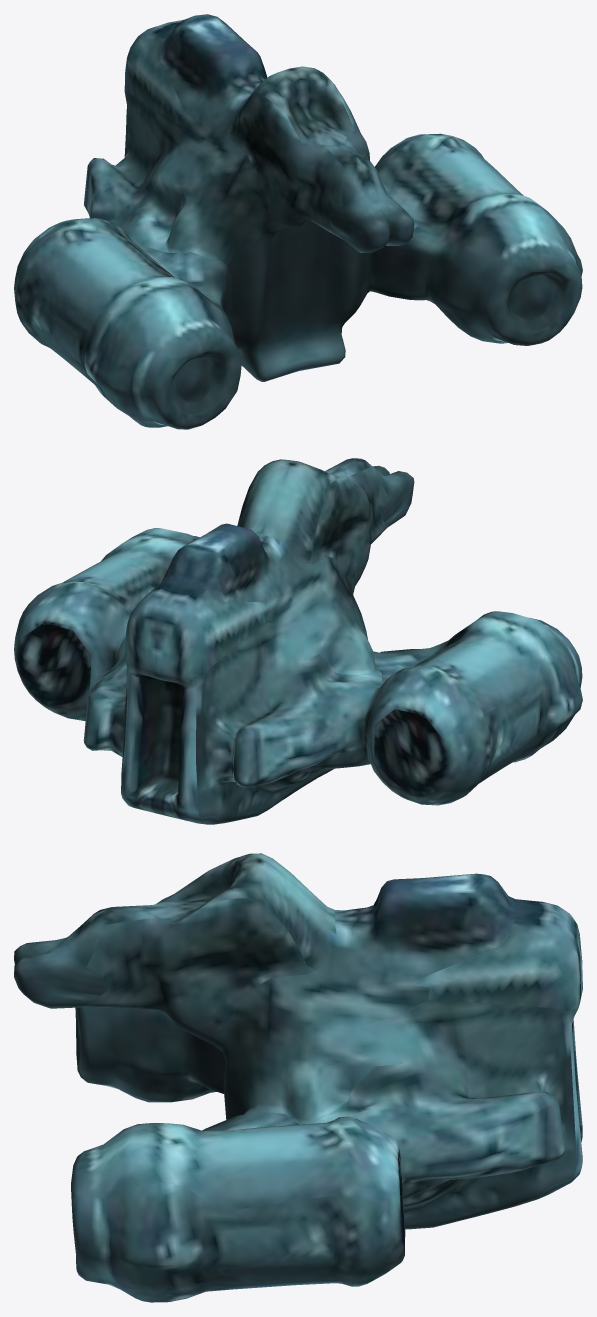
The model's file is placeholder_arctides.glb.
3 renders of one model, top to bottom at view 1: azimuth 30°, elevation 25°; view 2: azimuth 150°, elevation 25°; view 3: azimuth 270°, elevation 25°, orthographic. The views are drawn at different scales.
Parts seen in each view (by area): view 1: placeholder_arctides; view 2: placeholder_arctides; view 3: placeholder_arctides.
Boxes of the visible parts, x1,y1,x2,y2 form: placeholder_arctides: [14, 14, 582, 429]; placeholder_arctides: [14, 458, 582, 824]; placeholder_arctides: [14, 853, 582, 1302].
Size of the model in its own units: 0.1028 by 0.0613 by 0.0887.
Materials: 1 (1 with a texture image).
